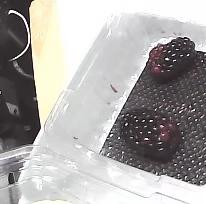berry: (120, 108, 180, 162), (148, 37, 197, 82)
red drouplet: (159, 122, 177, 142), (149, 47, 158, 58), (151, 64, 160, 73)
